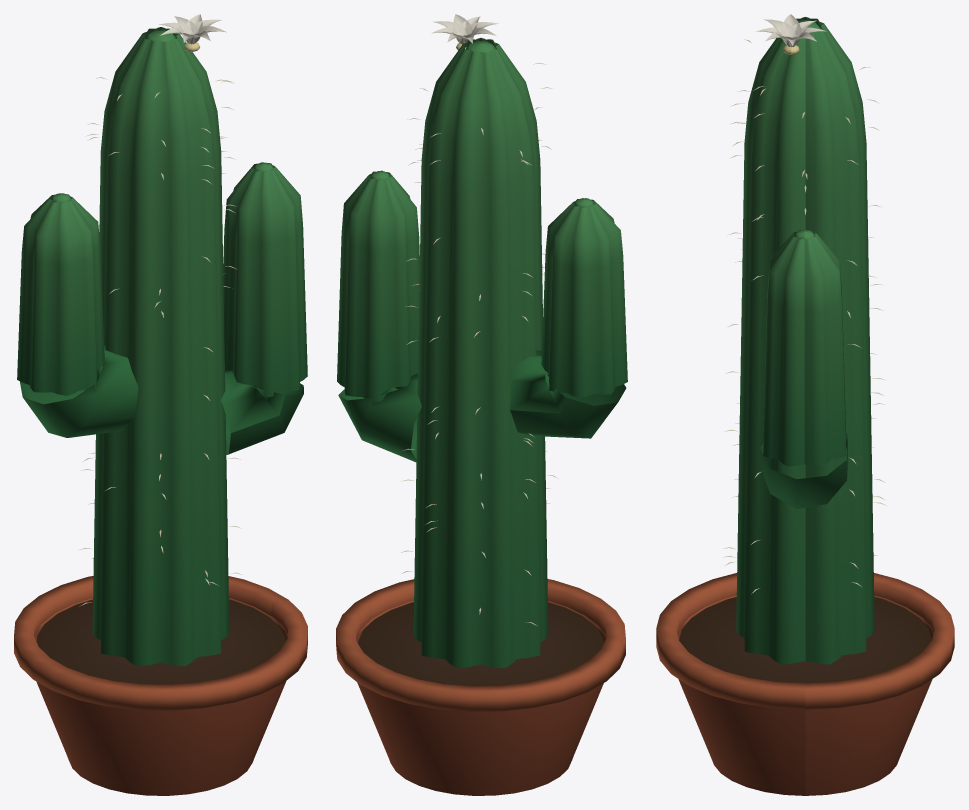
File: mandacaru.glb
3 views of the same model, side by side, from view 1: azimuth 30°, elevation 25°; view 2: azimuth 150°, elevation 25°; view 3: azimuth 270°, elevation 25° (orthographic). The views are drawn at different scales.
Parts seen in each view (by area): view 1: mandacaru; view 2: mandacaru; view 3: mandacaru.
Part boxes in pixels (x1=…): mandacaru: x1=14, y1=14, x2=307, y2=795; mandacaru: x1=336, y1=14, x2=627, y2=795; mandacaru: x1=656, y1=14, x2=954, y2=795.
Size of the model in its own units: 0.2301 by 0.5794 by 0.212.
